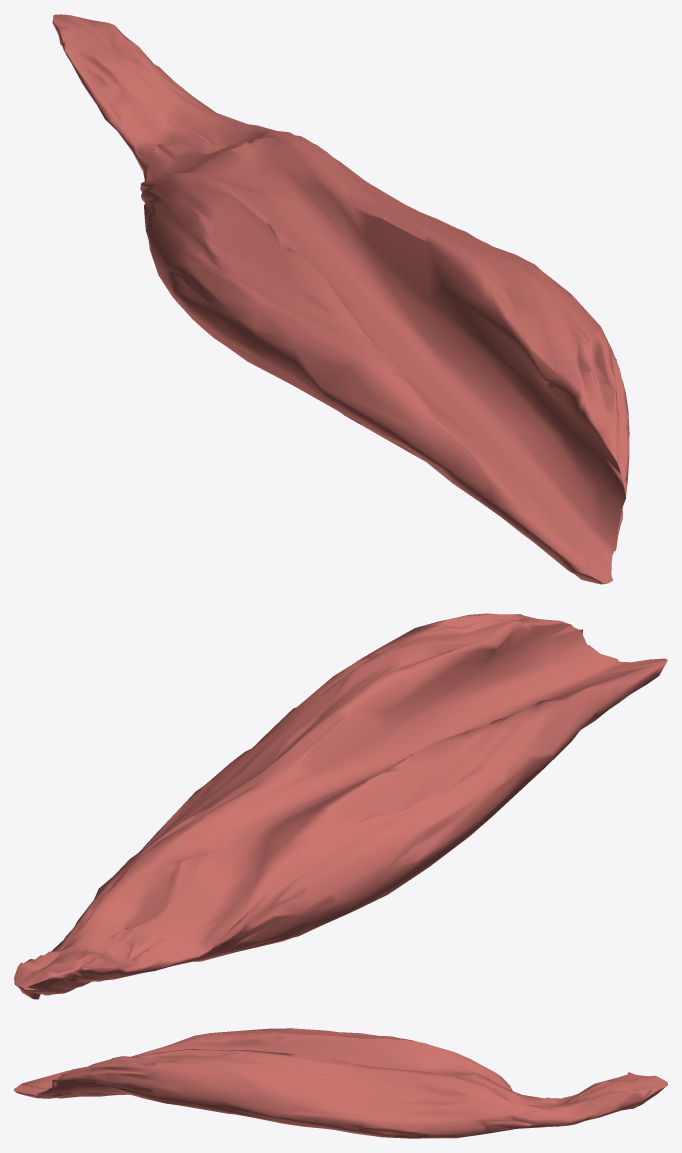
3 views of the same model, one above another, from view 1: azimuth 30°, elevation 25°; view 2: azimuth 150°, elevation 25°; view 3: azimuth 270°, elevation 25° (orthographic). The views are drawn at different scales.
Visible parts, largest first — view 1: 左侧肱肌; view 2: 左侧肱肌; view 3: 左侧肱肌.
Boxes of the visible parts, x1=… form: 左侧肱肌: x1=52, y1=14, x2=629, y2=584; 左侧肱肌: x1=14, y1=613, x2=667, y2=999; 左侧肱肌: x1=14, y1=1028, x2=667, y2=1138.
Size of the model in its own units: 0.0897 by 0.04 by 0.3423.
